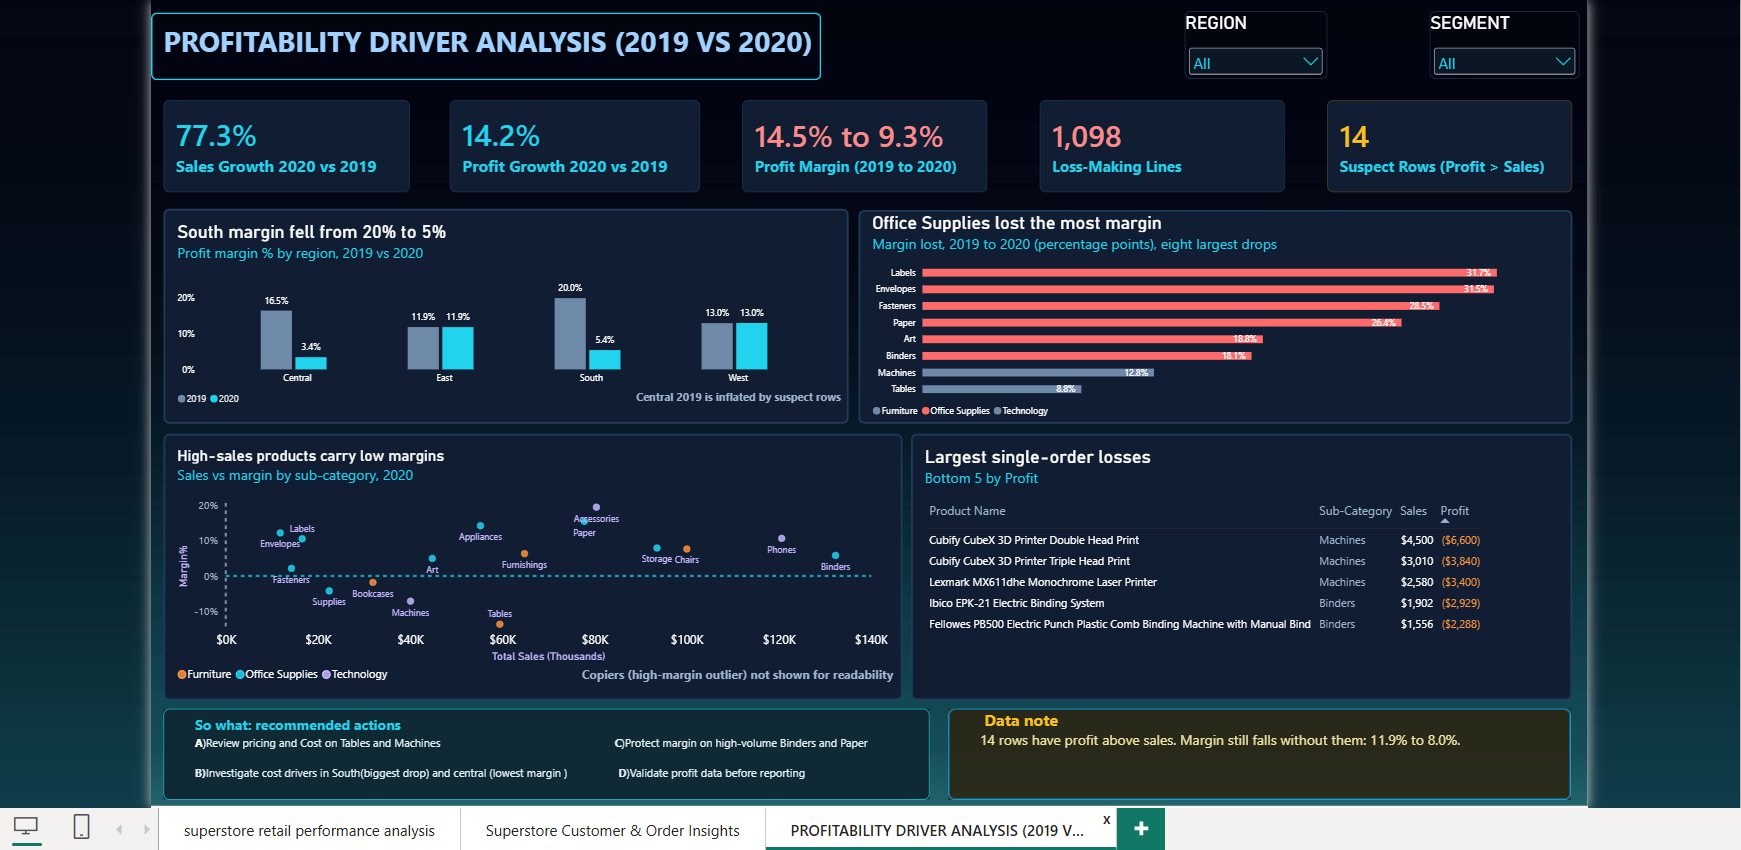

Layout of this report page (visuals, bound fields, positions):
{"tool":"powerbi","page":{"name":"PROFITABILITY DRIVER ANALYSIS (2019 VS 2020)","canvas":[1920,1080],"ordinal":2},"visuals":[{"type":"slicer","title":"REGION","fields":{"Values":["SuperStore_Sales_Dataset.Region"]},"box":[1381.1,14.4,190,90],"z":0},{"type":"slicer","title":"SEGMENT","fields":{"Values":["SuperStore_Sales_Dataset.Segment"]},"box":[1707.6,15.7,200,90],"z":1000},{"type":"textbox","box":[16.5,30.9,889.2,102.9],"z":2000},{"type":"shape","box":[0,16.5,895.4,90.6],"z":3000},{"type":"cardVisual","title":"Sales growth, 2020 vs 2019","fields":{"Data":["Measure Table.Sales Growth %"]},"box":[16.5,133.8,329,123.5],"z":4000},{"type":"cardVisual","title":"Sales growth, 2020 vs 2019","fields":{"Data":["Measure Table.Profit Growth %"]},"box":[399.3,133.8,334,123.5],"z":5000},{"type":"cardVisual","title":"Sales growth, 2020 vs 2019","fields":{"Data":["Measure Table.Margin Trend"]},"box":[790.4,133.8,327,123.5],"z":6000},{"type":"cardVisual","title":"Sales growth, 2020 vs 2019","fields":{"Data":["Measure Table.Loss Making Lines"]},"box":[1187.7,133.8,327,123.5],"z":7000},{"type":"cardVisual","title":"Sales growth, 2020 vs 2019","fields":{"Data":["Measure Table.Suspect Rows"]},"box":[1570.5,133.8,327,123.5],"z":8000},{"type":"clusteredColumnChart","title":"South margin fell from 20% to 5%","fields":{"Category":["SuperStore_Sales_Dataset.Region"],"Series":["SuperStore_Sales_Dataset.Year"],"Y":["Measure Table.Customer Profit Margin"]},"box":[16.7,278.9,915,287.2],"z":9000},{"type":"barChart","title":"Office Supplies lost the most margin","fields":{"Category":["SuperStore_Sales_Dataset.Sub-Category"],"Series":["SuperStore_Sales_Dataset.Category"],"Y":["Measure Table.Margin Drop"]},"box":[945.1,280.5,953.4,285.5],"z":10000},{"type":"scatterChart","title":"High-sales products carry low margins","fields":{"Category":["SuperStore_Sales_Dataset.Sub-Category"],"Series":["SuperStore_Sales_Dataset.Category"],"X":["Measure Table.Total Sales"],"Y":["Measure Table.Customer Profit Margin"]},"box":[16.7,579.4,986.8,355.7],"z":11000},{"type":"textbox","box":[16,946.8,1023.4,121],"z":12000},{"type":"tableEx","title":"Largest single-order losses","fields":{"Values":["SuperStore_Sales_Dataset.Product Name","SuperStore_Sales_Dataset.Sub-Category","Measure Table.Total Sales","Measure Table.Total Profit"]},"box":[1015.2,579.4,883.3,355.7],"z":13000},{"type":"textbox","box":[1065.3,946.8,831.5,121.9],"z":14000},{"type":"shape","box":[16,946.8,1023.6,121.9],"z":15000},{"type":"shape","box":[1065.3,946.8,831.5,121.9],"z":16000},{"type":"textbox","box":[365.7,890,626.2,45.1],"z":17000},{"type":"textbox","box":[345.6,519.3,584.4,45.1],"z":18000}]}

Visuals, with their boxes on the page's 1920x1080 design canvas (x1, y1, x2, y2). These are canvas units, not pixel positions in the 1741x850 screenshot, which may show the page scaled, cropped or inside an application window:
"REGION" slicer: {"left": 1381, "top": 14, "right": 1571, "bottom": 104}
"SEGMENT" slicer: {"left": 1708, "top": 16, "right": 1908, "bottom": 106}
textbox: {"left": 16, "top": 31, "right": 906, "bottom": 134}
shape: {"left": 0, "top": 16, "right": 895, "bottom": 107}
"Sales growth, 2020 vs 2019" cardVisual: {"left": 16, "top": 134, "right": 346, "bottom": 257}
"Sales growth, 2020 vs 2019" cardVisual: {"left": 399, "top": 134, "right": 733, "bottom": 257}
"Sales growth, 2020 vs 2019" cardVisual: {"left": 790, "top": 134, "right": 1117, "bottom": 257}
"Sales growth, 2020 vs 2019" cardVisual: {"left": 1188, "top": 134, "right": 1515, "bottom": 257}
"Sales growth, 2020 vs 2019" cardVisual: {"left": 1570, "top": 134, "right": 1898, "bottom": 257}
"South margin fell from 20% to 5%" clusteredColumnChart: {"left": 17, "top": 279, "right": 932, "bottom": 566}
"Office Supplies lost the most margin" barChart: {"left": 945, "top": 280, "right": 1898, "bottom": 566}
"High-sales products carry low margins" scatterChart: {"left": 17, "top": 579, "right": 1004, "bottom": 935}
textbox: {"left": 16, "top": 947, "right": 1039, "bottom": 1068}
"Largest single-order losses" tableEx: {"left": 1015, "top": 579, "right": 1898, "bottom": 935}
textbox: {"left": 1065, "top": 947, "right": 1897, "bottom": 1069}
shape: {"left": 16, "top": 947, "right": 1040, "bottom": 1069}
shape: {"left": 1065, "top": 947, "right": 1897, "bottom": 1069}
textbox: {"left": 366, "top": 890, "right": 992, "bottom": 935}
textbox: {"left": 346, "top": 519, "right": 930, "bottom": 564}
